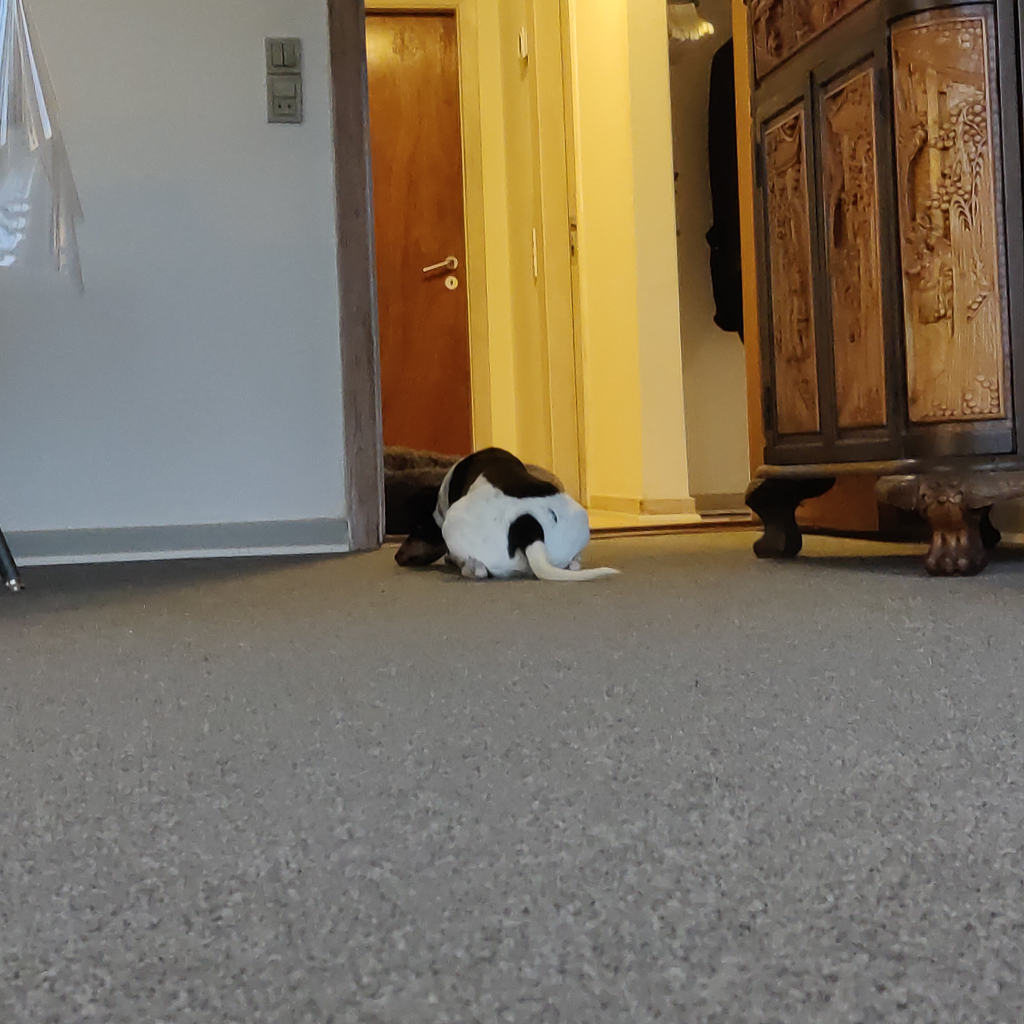Dog: (374, 426, 650, 607)
